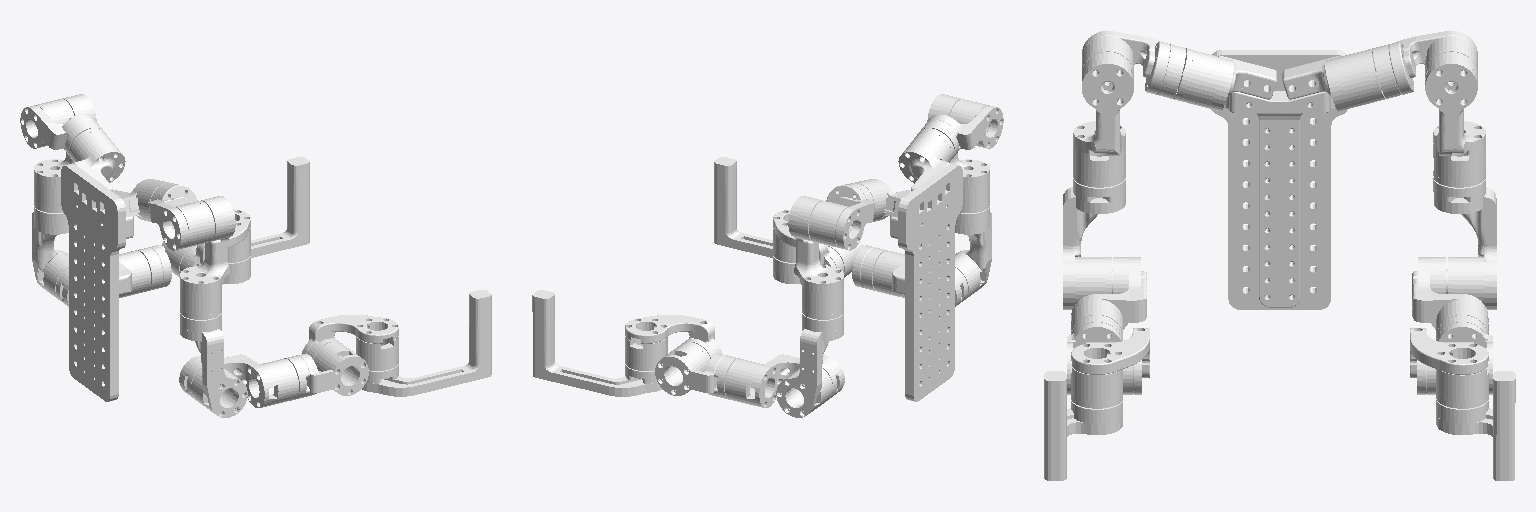
The robot description file, URDF, robot "G1":
<?xml version="1.0" encoding="utf-8"?>
<!-- This URDF was automatically created by SolidWorks to URDF Exporter! Originally created by [author] ([email redacted]) 
     Commit Version: 1.6.0-1-g15f4949  Build Version: 1.6.7594.29634
     For more information, please see http://wiki.ros.org/sw_urdf_exporter -->
<robot
  name="G1">
  <link
    name="base_link">
    <inertial>
      <origin
        xyz="-0.0282968903338482 -1.1962351911983E-08 -0.0539570107945134"
        rpy="0 0 0" />
      <mass
        value="0.403230799709573" />
      <inertia
        ixx="0.00148651823360224"
        ixy="-9.18354178236419E-11"
        ixz="-1.71381344092722E-05"
        iyy="0.00132142694342335"
        iyz="2.43054187908942E-10"
        izz="0.000229550100995893" />
    </inertial>
    <visual>
      <origin
        xyz="0 0 0"
        rpy="0 0 0" />
      <geometry>
        <mesh
          filename="meshes/base_link.STL" />
      </geometry>
      <material
        name="">
        <color
          rgba="1 1 1 1" />
      </material>
    </visual>
    <collision>
      <origin
        xyz="0 0 0"
        rpy="0 0 0" />
      <geometry>
        <mesh
          filename="meshes/base_link.STL" />
      </geometry>
    </collision>
  </link>
  <link
    name="ll1">
    <inertial>
      <origin
        xyz="-0.00683857298526891 -0.00760062263917745 0.0356955905756811"
        rpy="0 0 0" />
      <mass
        value="0.0747219695337046" />
      <inertia
        ixx="2.51047382954617E-05"
        ixy="-1.74748936937765E-06"
        ixz="3.22476101726286E-06"
        iyy="2.5463936195673E-05"
        iyz="5.64707173096131E-06"
        izz="2.07024729820782E-05" />
    </inertial>
    <visual>
      <origin
        xyz="0 0 0"
        rpy="0 0 0" />
      <geometry>
        <mesh
          filename="meshes/ll1.STL" />
      </geometry>
      <material
        name="">
        <color
          rgba="1 1 1 1" />
      </material>
    </visual>
    <collision>
      <origin
        xyz="0 0 0"
        rpy="0 0 0" />
      <geometry>
        <mesh
          filename="meshes/ll1.STL" />
      </geometry>
    </collision>
  </link>
  <joint
    name="lj1"
    type="revolute">
    <origin
      xyz="0 0.082178 0.023564"
      rpy="0 -1.2915 -1.5708" />
    <parent
      link="base_link" />
    <child
      link="ll1" />
    <axis
      xyz="0 0 -1" />
    <limit
      lower="0"
      upper="0"
      effort="0"
      velocity="0" />
  </joint>
  <link
    name="ll2">
    <inertial>
      <origin
        xyz="0.0426642920756335 0.00335833391954465 0.00195675396826052"
        rpy="0 0 0" />
      <mass
        value="0.0802645793336264" />
      <inertia
        ixx="2.07421522356848E-05"
        ixy="-1.97713462236734E-06"
        ixz="8.55737699153083E-06"
        iyy="4.01554642363201E-05"
        iyz="1.23193908270799E-06"
        izz="3.8947694646856E-05" />
    </inertial>
    <visual>
      <origin
        xyz="0 0 0"
        rpy="0 0 0" />
      <geometry>
        <mesh
          filename="meshes/ll2.STL" />
      </geometry>
      <material
        name="">
        <color
          rgba="1 1 1 1" />
      </material>
    </visual>
    <collision>
      <origin
        xyz="0 0 0"
        rpy="0 0 0" />
      <geometry>
        <mesh
          filename="meshes/ll2.STL" />
      </geometry>
    </collision>
  </link>
  <joint
    name="lj2"
    type="revolute">
    <origin
      xyz="-0.013831 0.009 0.056483"
      rpy="1.5708 0.27925 -3.1416" />
    <parent
      link="ll1" />
    <child
      link="ll2" />
    <axis
      xyz="0 0 -1" />
    <limit
      lower="0"
      upper="0"
      effort="0"
      velocity="0" />
  </joint>
  <link
    name="ll3">
    <inertial>
      <origin
        xyz="-0.0081364502502799 -0.00681485840729191 0.0512518631664139"
        rpy="0 0 0" />
      <mass
        value="0.0836531189084498" />
      <inertia
        ixx="4.80416576588908E-05"
        ixy="-1.6219816006001E-06"
        ixz="9.70941058980885E-06"
        iyy="4.7061194802321E-05"
        iyz="6.34838298205282E-06"
        izz="2.13332618289304E-05" />
    </inertial>
    <visual>
      <origin
        xyz="0 0 0"
        rpy="0 0 0" />
      <geometry>
        <mesh
          filename="meshes/ll3.STL" />
      </geometry>
      <material
        name="">
        <color
          rgba="1 1 1 1" />
      </material>
    </visual>
    <collision>
      <origin
        xyz="0 0 0"
        rpy="0 0 0" />
      <geometry>
        <mesh
          filename="meshes/ll3.STL" />
      </geometry>
    </collision>
  </link>
  <joint
    name="lj3"
    type="revolute">
    <origin
      xyz="0.096 0.00675 -0.009"
      rpy="-1.5708 0 -1.5708" />
    <parent
      link="ll2" />
    <child
      link="ll3" />
    <axis
      xyz="0 0 -1" />
    <limit
      lower="0"
      upper="0"
      effort="0"
      velocity="0" />
  </joint>
  <link
    name="ll4">
    <inertial>
      <origin
        xyz="0.00766611016780316 0.0628075362421461 -0.029434157537765"
        rpy="0 0 0" />
      <mass
        value="0.187098860672524" />
      <inertia
        ixx="9.43874120676288E-05"
        ixy="-2.18378211291523E-06"
        ixz="2.0563341445536E-06"
        iyy="0.000167817461820187"
        iyz="7.49814737614336E-06"
        izz="0.000223932924767956" />
    </inertial>
    <visual>
      <origin
        xyz="0 0 0"
        rpy="0 0 0" />
      <geometry>
        <mesh
          filename="meshes/ll4.STL" />
      </geometry>
      <material
        name="">
        <color
          rgba="1 1 1 1" />
      </material>
    </visual>
    <collision>
      <origin
        xyz="0 0 0"
        rpy="0 0 0" />
      <geometry>
        <mesh
          filename="meshes/ll4.STL" />
      </geometry>
    </collision>
  </link>
  <joint
    name="lj4"
    type="revolute">
    <origin
      xyz="0.011 -0.01578 0.0878"
      rpy="3.14 -1.57 0" />
    <parent
      link="ll3" />
    <child
      link="ll4" />
    <axis
      xyz="0 0 -1" />
    <limit
      lower="0"
      upper="0"
      effort="0"
      velocity="0" />
  </joint>
  <link
    name="ll5">
    <inertial>
      <origin
        xyz="-0.000165238634535436 -0.00261490700867392 0.0359688766136933"
        rpy="0 0 0" />
      <mass
        value="0.0700036220775429" />
      <inertia
        ixx="2.14417819590719E-05"
        ixy="-1.69832766036864E-07"
        ixz="1.62128495112684E-07"
        iyy="2.2950139397256E-05"
        iyz="3.9947772584927E-06"
        izz="1.61425435588013E-05" />
    </inertial>
    <visual>
      <origin
        xyz="0 0 0"
        rpy="0 0 0" />
      <geometry>
        <mesh
          filename="meshes/ll5.STL" />
      </geometry>
      <material
        name="">
        <color
          rgba="1 1 1 1" />
      </material>
    </visual>
    <collision>
      <origin
        xyz="0 0 0"
        rpy="0 0 0" />
      <geometry>
        <mesh
          filename="meshes/ll5.STL" />
      </geometry>
    </collision>
  </link>
  <joint
    name="lj5"
    type="revolute">
    <origin
      xyz="0.01 0.086 -0.013"
      rpy="1.5708 0 3.1416" />
    <parent
      link="ll4" />
    <child
      link="ll5" />
    <axis
      xyz="0 0 -1" />
    <limit
      lower="0"
      upper="0"
      effort="0"
      velocity="0" />
  </joint>
  <link
    name="ll6">
    <inertial>
      <origin
        xyz="-0.0246770221150657 -0.0103038647153224 -0.000889486987828148"
        rpy="0 0 0" />
      <mass
        value="0.0757650176161916" />
      <inertia
        ixx="2.39070125707137E-05"
        ixy="-7.50676919574722E-06"
        ixz="-8.74167330913266E-06"
        iyy="3.5735691841401E-05"
        iyz="-3.88116391562447E-06"
        izz="3.37725225624953E-05" />
    </inertial>
    <visual>
      <origin
        xyz="0 0 0"
        rpy="0 0 0" />
      <geometry>
        <mesh
          filename="meshes/ll6.STL" />
      </geometry>
      <material
        name="">
        <color
          rgba="1 1 1 1" />
      </material>
    </visual>
    <collision>
      <origin
        xyz="0 0 0"
        rpy="0 0 0" />
      <geometry>
        <mesh
          filename="meshes/ll6.STL" />
      </geometry>
    </collision>
  </link>
  <joint
    name="lj6"
    type="revolute">
    <origin
      xyz="0 0.016 0.0568"
      rpy="-1.5708 1.57 0" />
    <parent
      link="ll5" />
    <child
      link="ll6" />
    <axis
      xyz="0 0 -1" />
    <limit
      lower="0"
      upper="0"
      effort="0"
      velocity="0" />
  </joint>
  <link
    name="ll7">
    <inertial>
      <origin
        xyz="0.0501035086224802 -0.02072121664571 -0.0008934414138414"
        rpy="0 0 0" />
      <mass
        value="0.0739845368772419" />
      <inertia
        ixx="6.00165713334047E-05"
        ixy="2.72497728671355E-05"
        ixz="4.42628952064308E-05"
        iyy="0.000157424828329882"
        iyz="-9.01525822398002E-06"
        izz="0.000128522352621877" />
    </inertial>
    <visual>
      <origin
        xyz="0 0 0"
        rpy="0 0 0" />
      <geometry>
        <mesh
          filename="meshes/ll7.STL" />
      </geometry>
      <material
        name="">
        <color
          rgba="1 1 1 1" />
      </material>
    </visual>
    <collision>
      <origin
        xyz="0 0 0"
        rpy="0 0 0" />
      <geometry>
        <mesh
          filename="meshes/ll7.STL" />
      </geometry>
    </collision>
  </link>
  <joint
    name="lj7"
    type="revolute">
    <origin
      xyz="-0.046 0.006 -0.016"
      rpy="1.5708 0 3.1416" />
    <parent
      link="ll6" />
    <child
      link="ll7" />
    <axis
      xyz="0 0 -1" />
    <limit
      lower="0"
      upper="0"
      effort="0"
      velocity="0" />
  </joint>
  <link
    name="rl1">
    <inertial>
      <origin
        xyz="0.00683466961933821 -0.00759986449486783 0.0356981807804388"
        rpy="0 0 0" />
      <mass
        value="0.0747186433462562" />
      <inertia
        ixx="2.51061814032215E-05"
        ixy="1.75248270253803E-06"
        ixz="-3.22629022331897E-06"
        iyy="2.54625577471221E-05"
        iyz="5.64647994534993E-06"
        izz="2.07030550875648E-05" />
    </inertial>
    <visual>
      <origin
        xyz="0 0 0"
        rpy="0 0 0" />
      <geometry>
        <mesh
          filename="meshes/rl1.STL" />
      </geometry>
      <material
        name="">
        <color
          rgba="1 1 1 1" />
      </material>
    </visual>
    <collision>
      <origin
        xyz="0 0 0"
        rpy="0 0 0" />
      <geometry>
        <mesh
          filename="meshes/rl1.STL" />
      </geometry>
    </collision>
  </link>
  <joint
    name="rj1"
    type="revolute">
    <origin
      xyz="0 -0.082178 0.023564"
      rpy="0 1.2915 -1.5708" />
    <parent
      link="base_link" />
    <child
      link="rl1" />
    <axis
      xyz="0 0 -1" />
    <limit
      lower="0"
      upper="0"
      effort="0"
      velocity="0" />
  </joint>
  <link
    name="rl2">
    <inertial>
      <origin
        xyz="-0.0426643046006436 0.00335577548992835 0.00196105698733507"
        rpy="0 0 0" />
      <mass
        value="0.0802643077336858" />
      <inertia
        ixx="2.07420911910166E-05"
        ixy="1.98802168599464E-06"
        ixz="-8.55476835441067E-06"
        iyy="4.01521749160597E-05"
        iyz="1.23347134663858E-06"
        izz="3.89507771960755E-05" />
    </inertial>
    <visual>
      <origin
        xyz="0 0 0"
        rpy="0 0 0" />
      <geometry>
        <mesh
          filename="meshes/rl2.STL" />
      </geometry>
      <material
        name="">
        <color
          rgba="1 1 1 1" />
      </material>
    </visual>
    <collision>
      <origin
        xyz="0 0 0"
        rpy="0 0 0" />
      <geometry>
        <mesh
          filename="meshes/rl2.STL" />
      </geometry>
    </collision>
  </link>
  <joint
    name="jl2"
    type="revolute">
    <origin
      xyz="0.013831 0.009 0.056483"
      rpy="1.5695 -0.27925 -3.1416" />
    <parent
      link="rl1" />
    <child
      link="rl2" />
    <axis
      xyz="0 0 -1" />
    <limit
      lower="0"
      upper="0"
      effort="0"
      velocity="0" />
  </joint>
  <link
    name="rl3">
    <inertial>
      <origin
        xyz="0.00813645820891026 -0.00681481660075148 0.0512518479210793"
        rpy="0 0 0" />
      <mass
        value="0.083653540678755" />
      <inertia
        ixx="4.80416522643551E-05"
        ixy="1.62198442165856E-06"
        ixz="-9.70938474129938E-06"
        iyy="4.70611825511958E-05"
        iyz="6.34837035860486E-06"
        izz="2.1333264996367E-05" />
    </inertial>
    <visual>
      <origin
        xyz="0 0 0"
        rpy="0 0 0" />
      <geometry>
        <mesh
          filename="meshes/rl3.STL" />
      </geometry>
      <material
        name="">
        <color
          rgba="1 1 1 1" />
      </material>
    </visual>
    <collision>
      <origin
        xyz="0 0 0"
        rpy="0 0 0" />
      <geometry>
        <mesh
          filename="meshes/rl3.STL" />
      </geometry>
    </collision>
  </link>
  <joint
    name="rj3"
    type="revolute">
    <origin
      xyz="-0.096 0.0067615 -0.0089914"
      rpy="-1.5708 -0.0012781 1.5708" />
    <parent
      link="rl2" />
    <child
      link="rl3" />
    <axis
      xyz="0 0 -1" />
    <limit
      lower="0"
      upper="0"
      effort="0"
      velocity="0" />
  </joint>
  <link
    name="rl4">
    <inertial>
      <origin
        xyz="-0.00454298912287388 0.0363693099098709 0.00185255903462672"
        rpy="0 0 0" />
      <mass
        value="0.0800197975220579" />
      <inertia
        ixx="3.61440794077709E-05"
        ixy="2.1870333859661E-06"
        ixz="-2.05638179101031E-06"
        iyy="2.27918170828661E-05"
        iyz="7.5290422226927E-06"
        izz="3.3767994828233E-05" />
    </inertial>
    <visual>
      <origin
        xyz="0 0 0"
        rpy="0 0 0" />
      <geometry>
        <mesh
          filename="meshes/rl4.STL" />
      </geometry>
      <material
        name="">
        <color
          rgba="1 1 1 1" />
      </material>
    </visual>
    <collision>
      <origin
        xyz="0 0 0"
        rpy="0 0 0" />
      <geometry>
        <mesh
          filename="meshes/rl4.STL" />
      </geometry>
    </collision>
  </link>
  <joint
    name="rj4"
    type="revolute">
    <origin
      xyz="-0.011 -0.01578 0.0878"
      rpy="3.1416 1.5708 0" />
    <parent
      link="rl3" />
    <child
      link="rl4" />
    <axis
      xyz="0 0 -1" />
    <limit
      lower="0"
      upper="0"
      effort="0"
      velocity="0" />
  </joint>
  <link
    name="rl5">
    <inertial>
      <origin
        xyz="0.000165241419010309 -0.0026148554625447 0.0359689414875231"
        rpy="0 0 0" />
      <mass
        value="0.0700033414825159" />
      <inertia
        ixx="2.14417125691243E-05"
        ixy="1.6983415240951E-07"
        ixz="-1.62126215847733E-07"
        iyy="2.29500659607215E-05"
        iyz="3.99480707233471E-06"
        izz="1.61425115921815E-05" />
    </inertial>
    <visual>
      <origin
        xyz="0 0 0"
        rpy="0 0 0" />
      <geometry>
        <mesh
          filename="meshes/rl5.STL" />
      </geometry>
      <material
        name="">
        <color
          rgba="1 1 1 1" />
      </material>
    </visual>
    <collision>
      <origin
        xyz="0 0 0"
        rpy="0 0 0" />
      <geometry>
        <mesh
          filename="meshes/rl5.STL" />
      </geometry>
    </collision>
  </link>
  <joint
    name="rj5"
    type="revolute">
    <origin
      xyz="-0.01 0.086 -0.013"
      rpy="1.5708 0 3.1416" />
    <parent
      link="rl4" />
    <child
      link="rl5" />
    <axis
      xyz="0 0 -1" />
    <limit
      lower="0"
      upper="0"
      effort="0"
      velocity="0" />
  </joint>
  <link
    name="rl6">
    <inertial>
      <origin
        xyz="0.0248107569055863 -0.0104125728523472 -0.000898621344478573"
        rpy="0 0 0" />
      <mass
        value="0.0753562259963949" />
      <inertia
        ixx="2.38546772784353E-05"
        ixy="7.50691878517232E-06"
        ixz="8.74172525812794E-06"
        iyy="3.56489329076315E-05"
        iyz="-3.90242358491819E-06"
        izz="3.36527269443544E-05" />
    </inertial>
    <visual>
      <origin
        xyz="0 0 0"
        rpy="0 0 0" />
      <geometry>
        <mesh
          filename="meshes/rl6.STL" />
      </geometry>
      <material
        name="">
        <color
          rgba="1 1 1 1" />
      </material>
    </visual>
    <collision>
      <origin
        xyz="0 0 0"
        rpy="0 0 0" />
      <geometry>
        <mesh
          filename="meshes/rl6.STL" />
      </geometry>
    </collision>
  </link>
  <joint
    name="rj6"
    type="revolute">
    <origin
      xyz="0 0.016 0.0568"
      rpy="-1.5708 -1.5708 0" />
    <parent
      link="rl5" />
    <child
      link="rl6" />
    <axis
      xyz="0 0 -1" />
    <limit
      lower="0"
      upper="0"
      effort="0"
      velocity="0" />
  </joint>
  <link
    name="rl7">
    <inertial>
      <origin
        xyz="-0.0501035167323218 -0.0207212164443856 -0.0338934415161337"
        rpy="0 0 0" />
      <mass
        value="0.073984558597198" />
      <inertia
        ixx="6.00165724044756E-05"
        ixy="-2.7249770455868E-05"
        ixz="-4.42628939351365E-05"
        iyy="0.000157424835622772"
        iyz="-9.01525860420521E-06"
        izz="0.000128522360345882" />
    </inertial>
    <visual>
      <origin
        xyz="0 0 0"
        rpy="0 0 0" />
      <geometry>
        <mesh
          filename="meshes/rl7.STL" />
      </geometry>
      <material
        name="">
        <color
          rgba="1 1 1 1" />
      </material>
    </visual>
    <collision>
      <origin
        xyz="0 0 0"
        rpy="0 0 0" />
      <geometry>
        <mesh
          filename="meshes/rl7.STL" />
      </geometry>
    </collision>
  </link>
  <joint
    name="rj7"
    type="revolute">
    <origin
      xyz="0.046 0.039 -0.016"
      rpy="1.5708 0 3.1416" />
    <parent
      link="rl6" />
    <child
      link="rl7" />
    <axis
      xyz="0 0 -1" />
    <limit
      lower="0"
      upper="0"
      effort="0"
      velocity="0" />
  </joint>
</robot>

--- Facts derived from the render (not from the file) ---
The picture shows the robot from 3 angles, left to right: view 1: azimuth 30°, elevation 25°; view 2: azimuth 150°, elevation 25°; view 3: azimuth 270°, elevation 25°; orthographic projection.
Model G1 with 15 links and 14 joints (14 revolute), rooted at base_link, posed every joint at zero.
Links seen in each view (by area): view 1: base_link, rl7, rl2, rl3, rl6, rl1, ll7, rl4, rl5, ll1, ll3, ll2 (+3 smaller); view 2: base_link, ll7, ll2, ll3, ll6, ll1, rl7, ll4, ll5, rl1, rl3, rl2 (+3 smaller); view 3: base_link, ll2, rl2, ll6, rl6, ll3, rl3, rl7, ll7, ll1, rl1, ll4 (+3 smaller).
Boxes of the visible links, left/top/right/bottom form: base_link: left=61, top=128, right=168, bottom=401; rl7: left=362, top=290, right=491, bottom=396; rl2: left=180, top=196, right=235, bottom=319; rl3: left=180, top=313, right=247, bottom=417; rl6: left=302, top=315, right=398, bottom=370; rl1: left=148, top=183, right=214, bottom=250; ll7: left=223, top=157, right=309, bottom=283; rl4: left=179, top=354, right=298, bottom=407; rl5: left=284, top=342, right=368, bottom=399; ll1: left=20, top=99, right=102, bottom=155; ll3: left=32, top=206, right=68, bottom=299; ll2: left=34, top=94, right=96, bottom=212; base_link: left=855, top=128, right=962, bottom=401; ll7: left=532, top=290, right=662, bottom=396; ll2: left=788, top=196, right=843, bottom=319; ll3: left=776, top=313, right=843, bottom=417; ll6: left=625, top=315, right=721, bottom=370; ll1: left=809, top=183, right=875, bottom=250; rl7: left=714, top=157, right=800, bottom=283; ll4: left=725, top=354, right=844, bottom=407; ll5: left=655, top=342, right=739, bottom=399; rl1: left=921, top=99, right=1003, bottom=157; rl3: left=955, top=206, right=991, bottom=299; rl2: left=927, top=94, right=989, bottom=212; base_link: left=1173, top=48, right=1385, bottom=309; ll2: left=1425, top=52, right=1485, bottom=187; rl2: left=1073, top=52, right=1133, bottom=187; ll6: left=1410, top=328, right=1488, bottom=408; rl6: left=1071, top=328, right=1149, bottom=408; ll3: left=1433, top=177, right=1496, bottom=309; rl3: left=1063, top=178, right=1125, bottom=309; rl7: left=1044, top=371, right=1122, bottom=480; ll7: left=1436, top=371, right=1515, bottom=480; ll1: left=1373, top=31, right=1477, bottom=98; rl1: left=1082, top=31, right=1185, bottom=98; ll4: left=1412, top=257, right=1488, bottom=334.
Bounding box of the posed robot: 0.3596 × 0.3846 × 0.2561 m (x, y, z).
15 mesh visuals loaded from 15 distinct referenced files (15 binary STL).